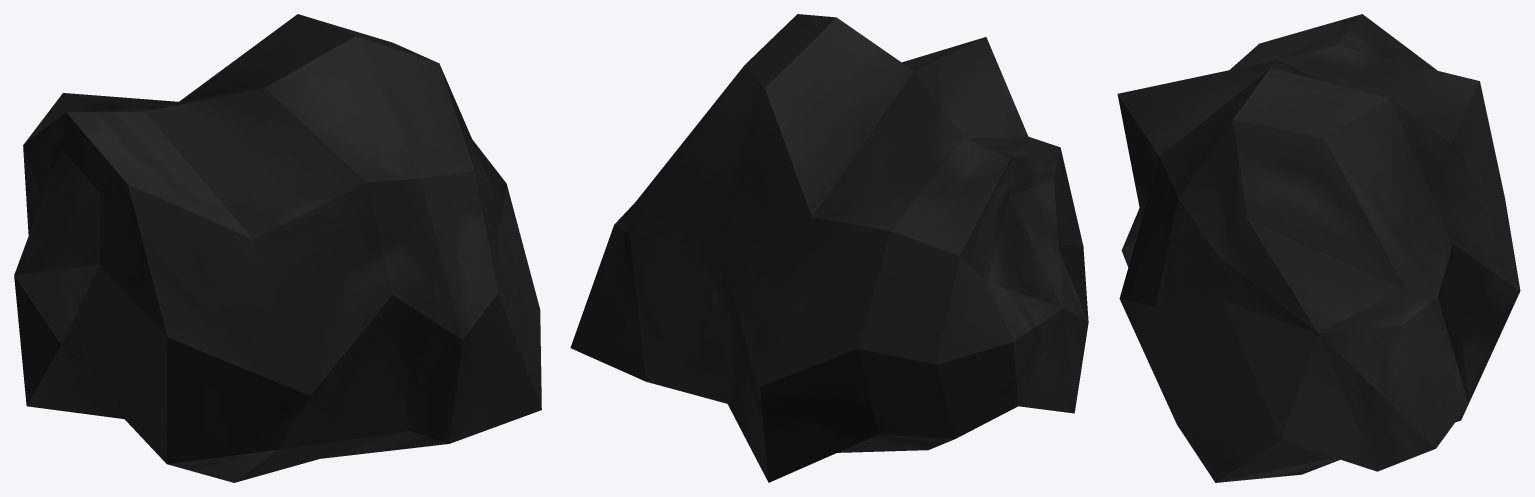
The model's file is rock_001.obj.
3 renders of one model, left to right at view 1: azimuth 30°, elevation 25°; view 2: azimuth 150°, elevation 25°; view 3: azimuth 270°, elevation 25°, orthographic. The views are drawn at different scales.
Parts seen in each view (by area): view 1: pSphere1; view 2: pSphere1; view 3: pSphere1.
Part boxes in pixels (left/top/right/bottom): pSphere1: left=14, top=14, right=541, bottom=482; pSphere1: left=570, top=14, right=1088, bottom=482; pSphere1: left=1117, top=14, right=1520, bottom=482.
Size of the model in its own units: 1.11 by 0.971 by 0.8962.
